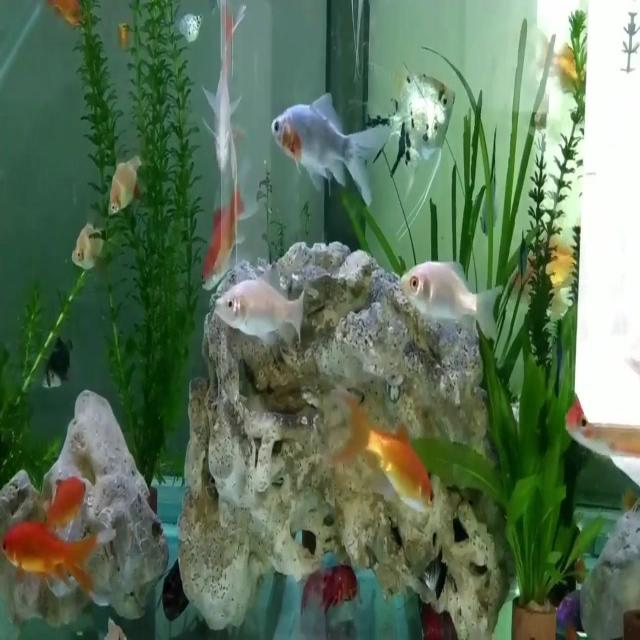GoldFish: (332, 394, 444, 532), (0, 511, 106, 605), (39, 464, 100, 526)
